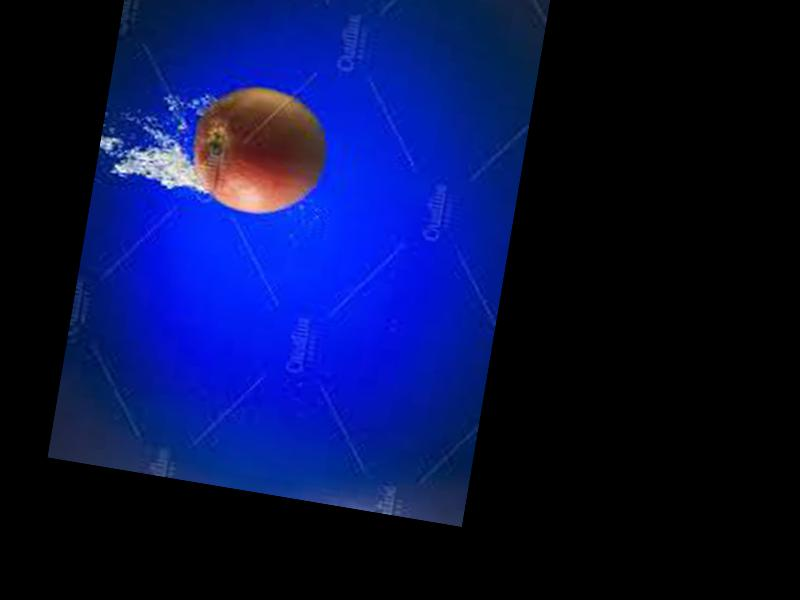Tomato: (183, 76, 331, 222)
